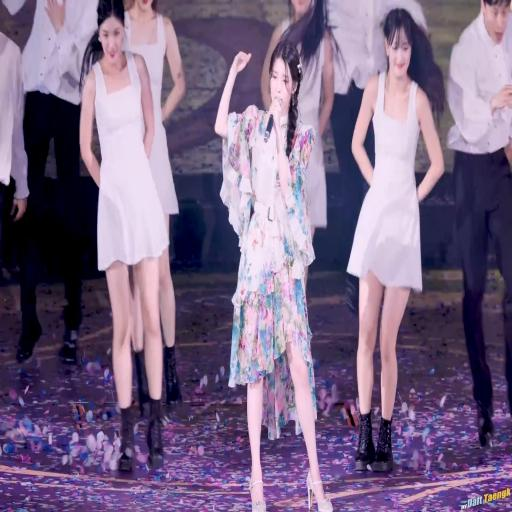IU: (269, 42, 302, 116)
